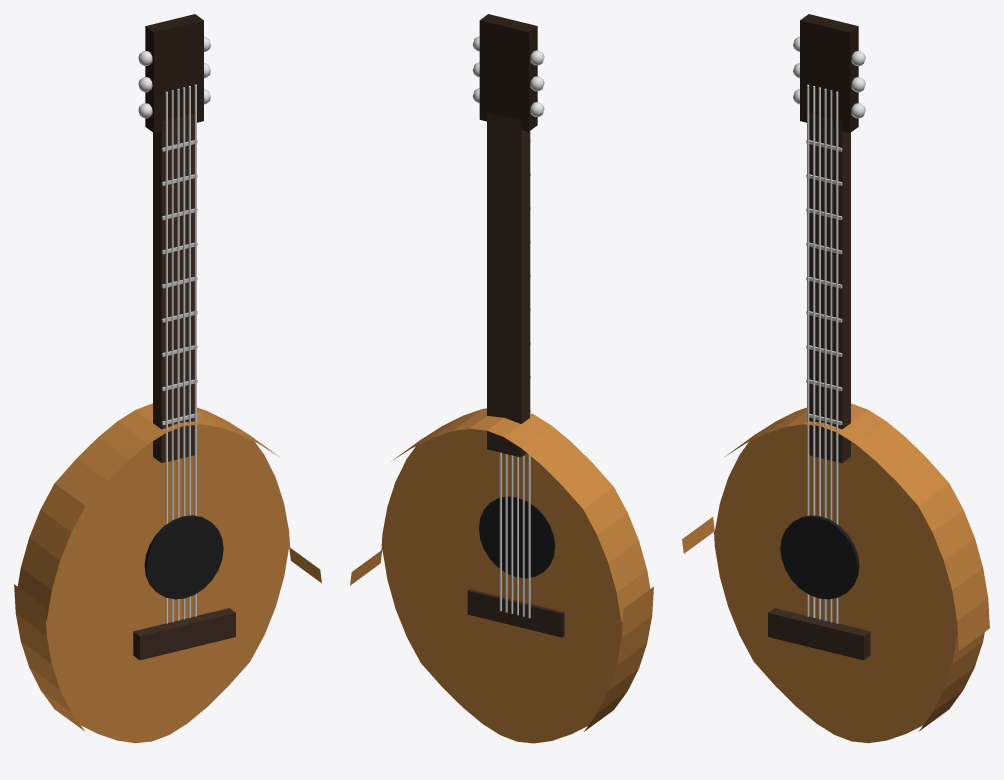
Rendered from guitar.glb.
The picture shows the model from 3 angles, left to right: view 1: azimuth 30°, elevation 25°; view 2: azimuth 150°, elevation 25°; view 3: azimuth 330°, elevation 25°; orthographic projection.
Visible parts, largest first — view 1: guitar; view 2: guitar; view 3: guitar.
Part boxes in pixels (<box>): guitar: <box>14,14,321,743</box>; guitar: <box>350,14,653,743</box>; guitar: <box>682,14,989,743</box>.
Size of the model in its own units: 1.44 by 3.65 by 0.32.
